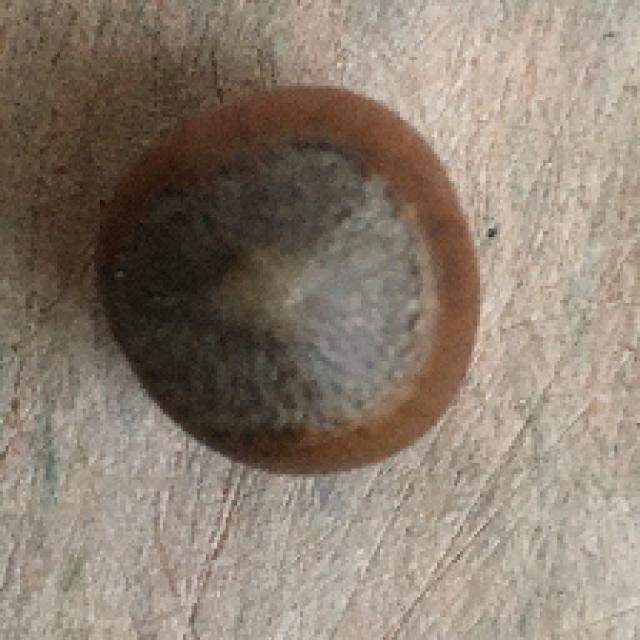qualityHazelnut: (101, 80, 484, 478)
